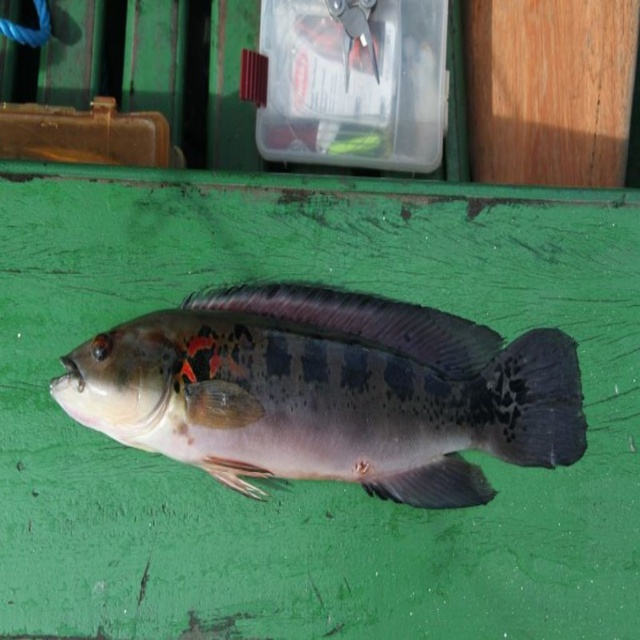Fish: (0, 262, 615, 532)
